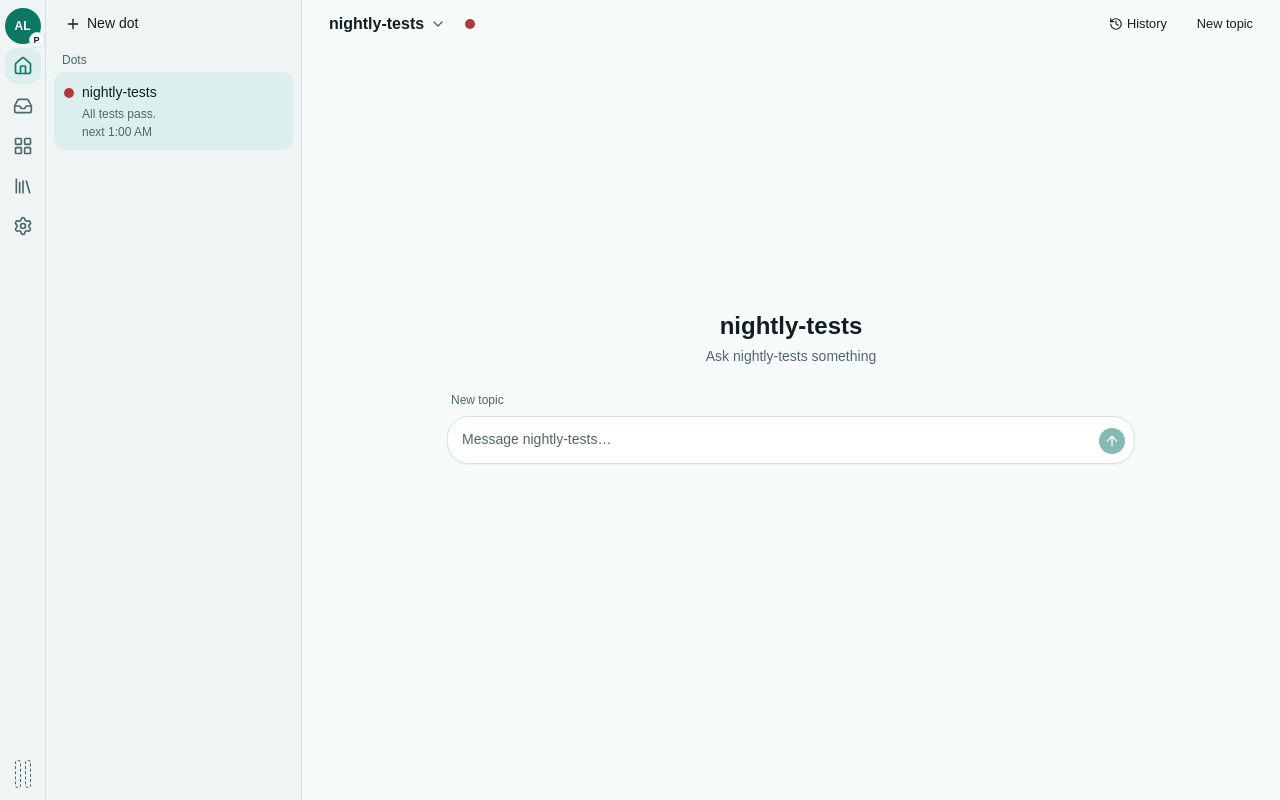
Test case: the account switcher › switches to the account picked
Click the button with aria-label "Account:" at coordinates (22, 26), box [4,8,40,44]
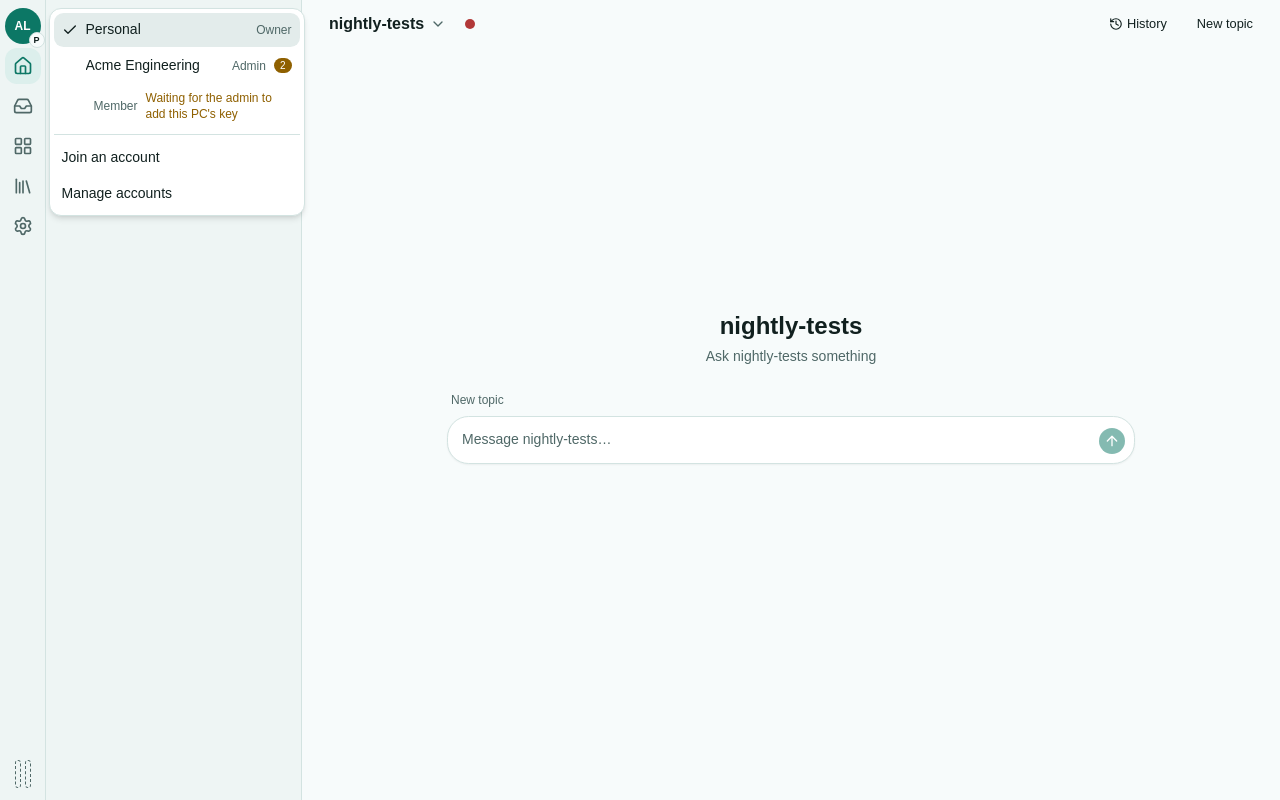
Click the menu item "Acme Engineering Admin 2" at coordinates (176, 66), box [54,49,300,82]
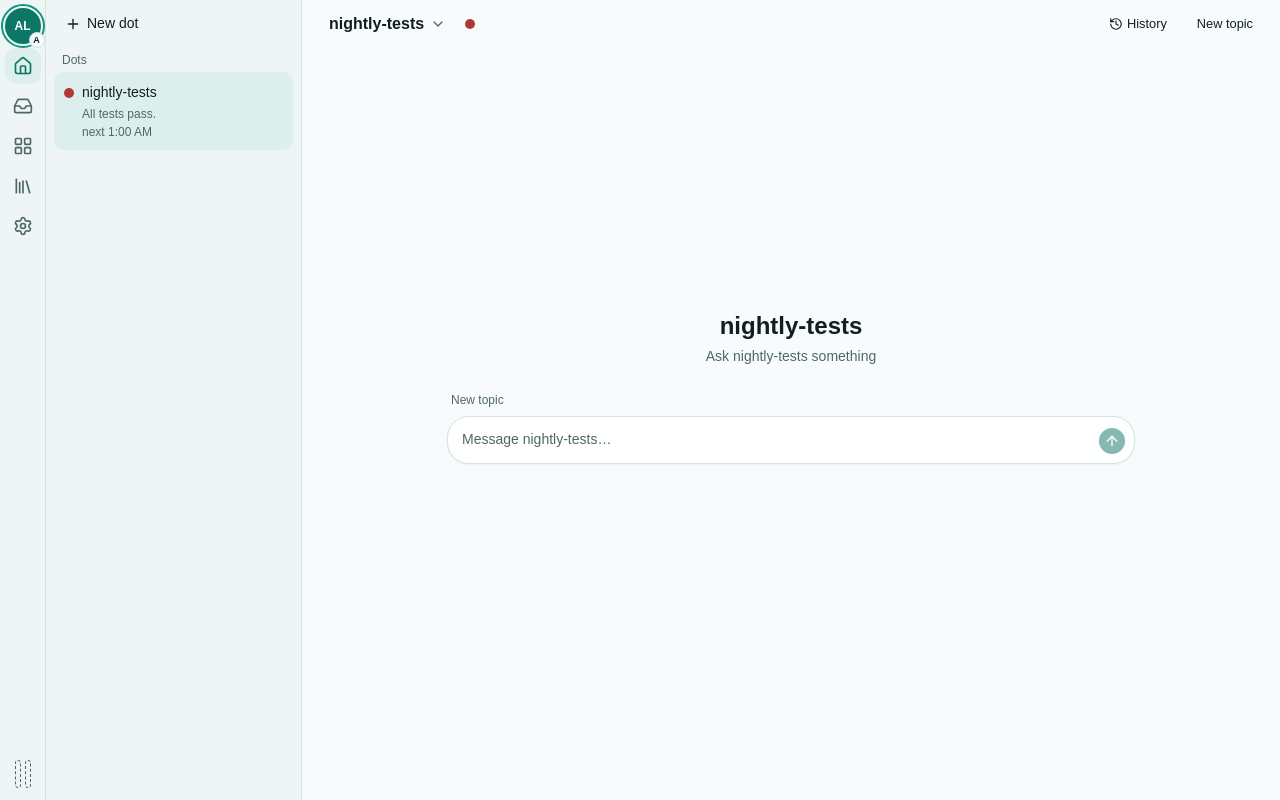
Result: the menu is gone
Result: the button with aria-label "Account: Acme Engineering" is shown at [4,8,40,44]
